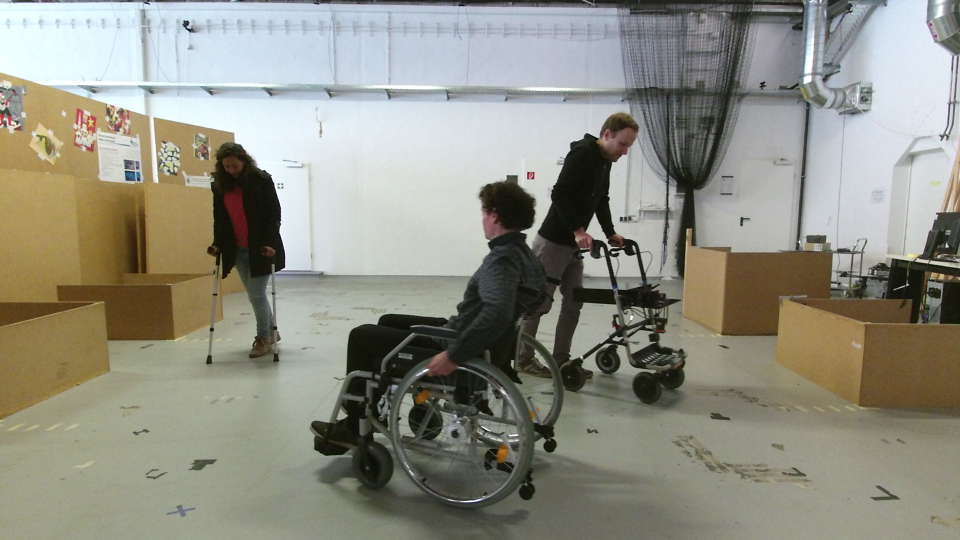crutches: (199, 137, 289, 365)
wheelchair: (300, 176, 564, 511)
